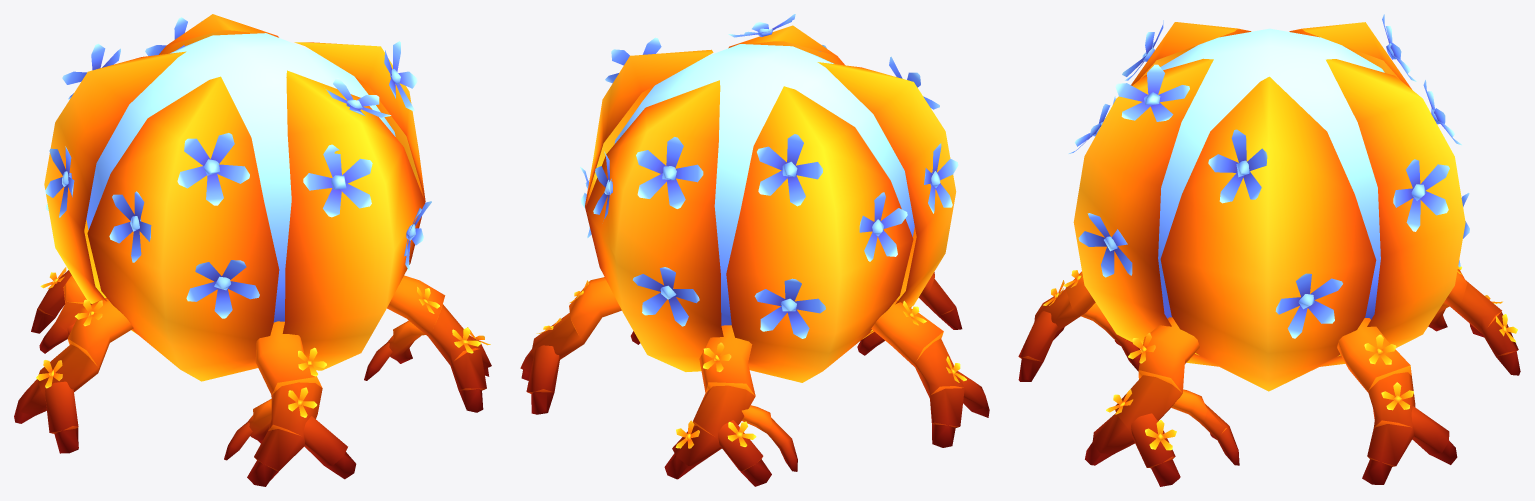
Rendered from pumpkin_sprite.glb.
3 views of the same model, side by side, from view 1: azimuth 30°, elevation 25°; view 2: azimuth 150°, elevation 25°; view 3: azimuth 270°, elevation 25° (orthographic). The views are drawn at different scales.
Visible parts, largest first — view 1: Pumpkin Sprite; view 2: Pumpkin Sprite; view 3: Pumpkin Sprite.
Part boxes in pixels (x1,y1,x2,y2): Pumpkin Sprite: [14, 14, 491, 486]; Pumpkin Sprite: [520, 14, 989, 486]; Pumpkin Sprite: [1018, 14, 1520, 486].
Size of the model in its own units: 0.7638 by 0.6061 by 0.7921.
1 material, 1 textured.
